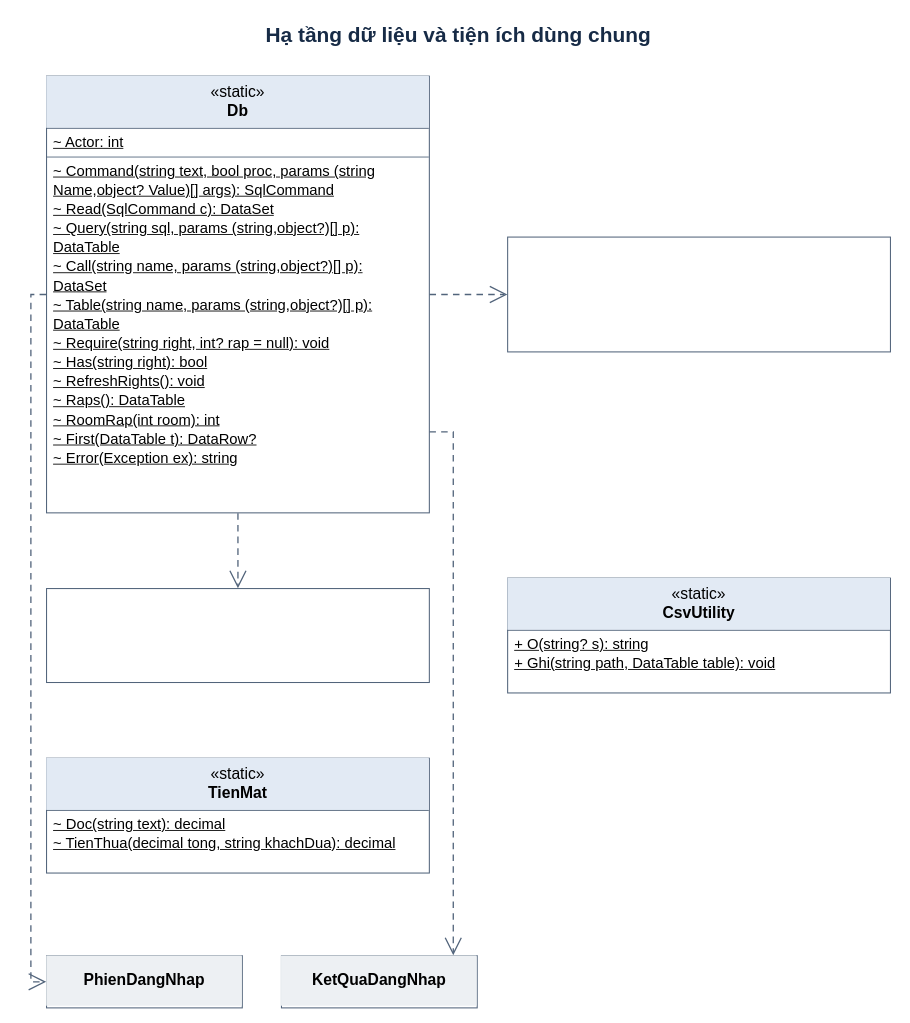
Some shapes in this 910 by 1023 pixel diagram are drawn without their labels. The shapes that lost their labels are listed below. From the top down, each one's centre as x and y in pixels, then its label:
At pixel 699 294: "«record struct» Tvp + TypeName: string + Value: DataTable".
At pixel 237 635: "«static» CauHinh + ChuoiKetNoi: string".
